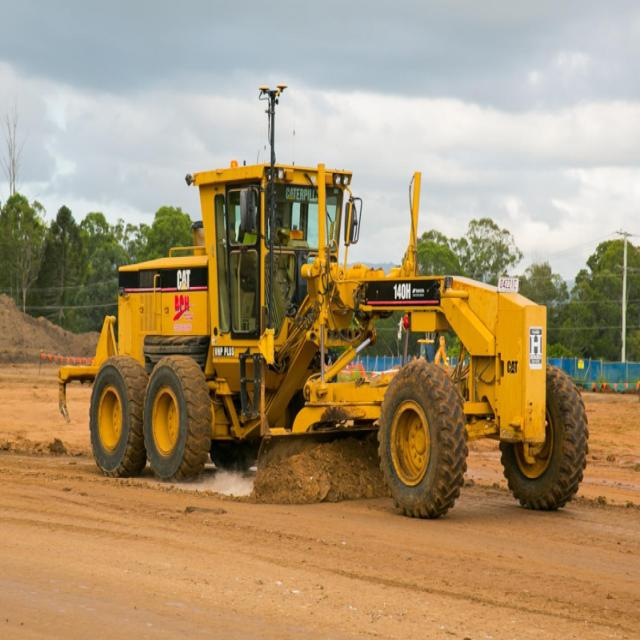buldozerpayloadergrader: (60, 156, 589, 528)
